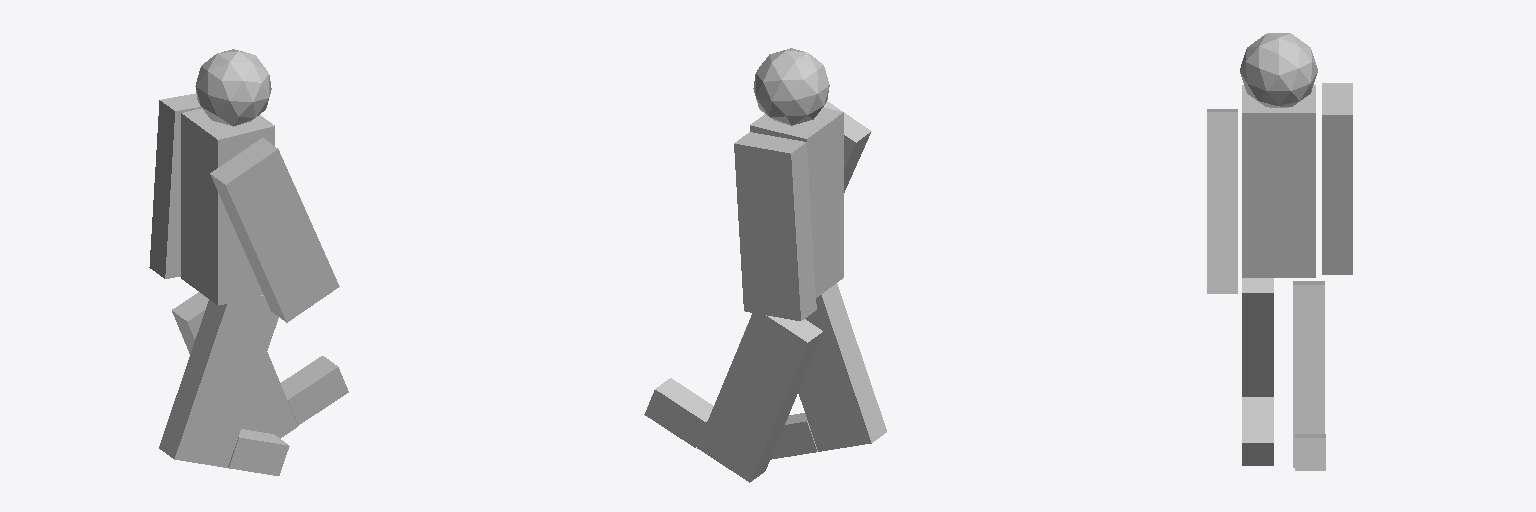
Rendered from player_000052.obj.
3 renders of one model, left to right at view 1: azimuth 30°, elevation 25°; view 2: azimuth 150°, elevation 25°; view 3: azimuth 270°, elevation 25°, orthographic.
Parts seen in each view (by area): view 1: Cube.005, Cube.001, Cube, Cube.006, Icosphere, Cube.002, Cube.004, Cube.003; view 2: Cube.006, Cube.002, Cube.001, Cube, Icosphere, Cube.004, Cube.003, Cube.005; view 3: Cube, Cube.006, Cube.005, Cube.002, Icosphere, Cube.001, Cube.003, Cube.004.
Boxes of the visible parts, box(x1,y1,x2,y2) form: Cube.005: box(210, 138, 339, 322); Cube.001: box(159, 295, 278, 467); Cube: box(181, 108, 274, 305); Cube.006: box(149, 93, 201, 278); Icosphere: box(195, 49, 271, 126); Cube.002: box(172, 292, 297, 438); Cube.004: box(281, 356, 348, 425); Cube.003: box(228, 429, 289, 475); Cube.006: box(734, 132, 816, 320); Cube.002: box(697, 313, 823, 482); Cube.001: box(798, 283, 886, 451); Cube: box(750, 107, 843, 297); Icosphere: box(753, 48, 829, 125); Cube.004: box(644, 378, 713, 447); Cube.003: box(771, 413, 817, 459); Cube.005: box(824, 101, 871, 192); Cube: box(1242, 85, 1315, 277); Cube.006: box(1322, 83, 1352, 274); Cube.005: box(1207, 109, 1237, 293); Cube.002: box(1293, 281, 1324, 467); Icosphere: box(1240, 33, 1317, 107); Cube.001: box(1242, 278, 1273, 396); Cube.003: box(1242, 397, 1273, 465); Cube.004: box(1295, 434, 1325, 470).
Bounding box in the file's own units: 1.44 × 2.88 × 0.9137.